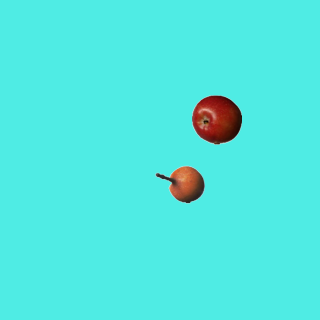Apple Braeburn: (191, 94, 241, 144)
Granadilla: (154, 159, 204, 209)
